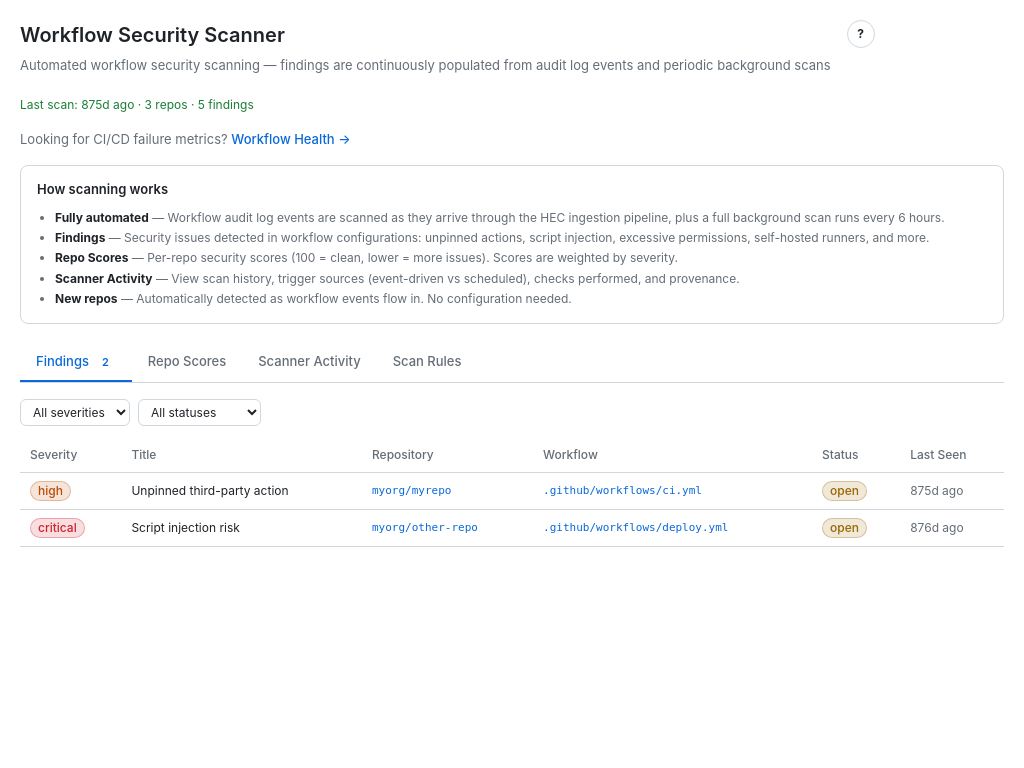
Scenario: WorkflowsPage — Scores Tab › switches to scores tab and shows repo scores
Click the button "Repo Scores". click: (187, 363)
box: [132,344,242,382]
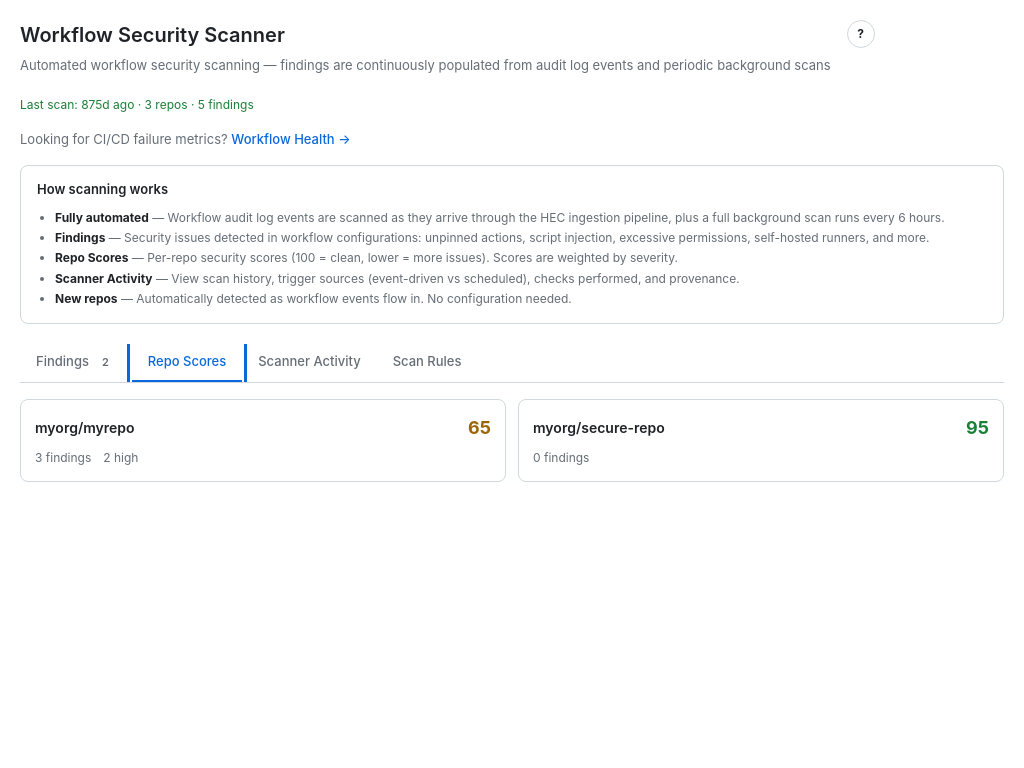
Expected: the text "myorg/myrepo" is shown, [35,417,135,438]
Now the text "myorg/secure-repo" is shown, box [533,417,665,438]
